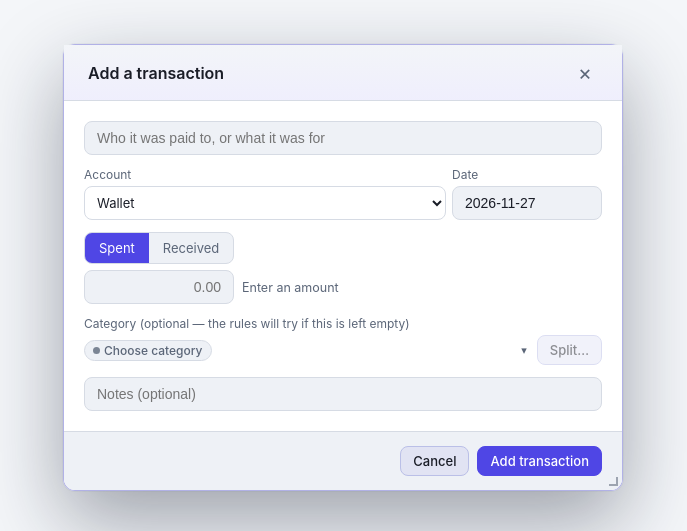
Test: AddTransactionDialog › names the box that needs attention instead of failing silently
The width and height of the screenshot is (687, 531).
Expected: the field named "Amount" is shown, [84,270,234,304]
Click the button "Add transaction". click: (540, 461)
box: [478,446,602,476]
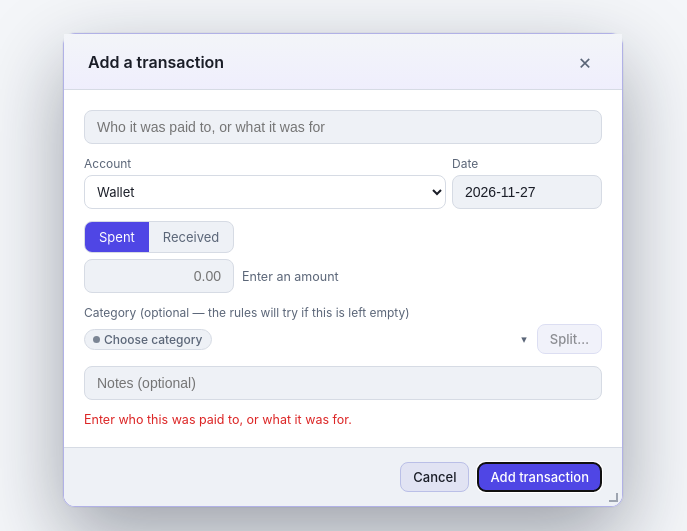
Expected: the text "Enter who this was paid to, or what it was for." is shown, [84,412,352,427]
